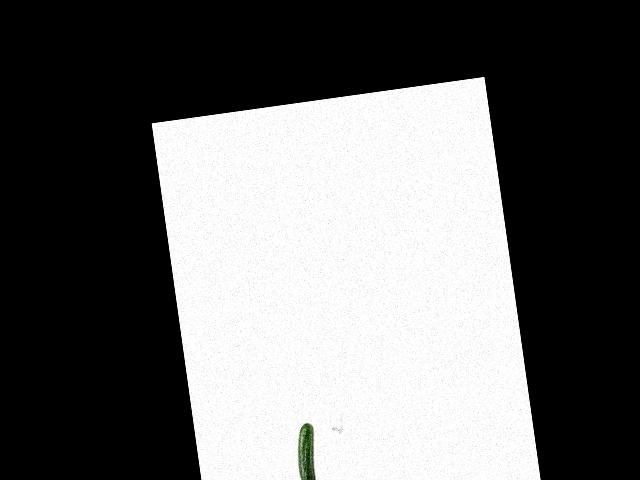cucumber: (293, 421, 321, 480)
